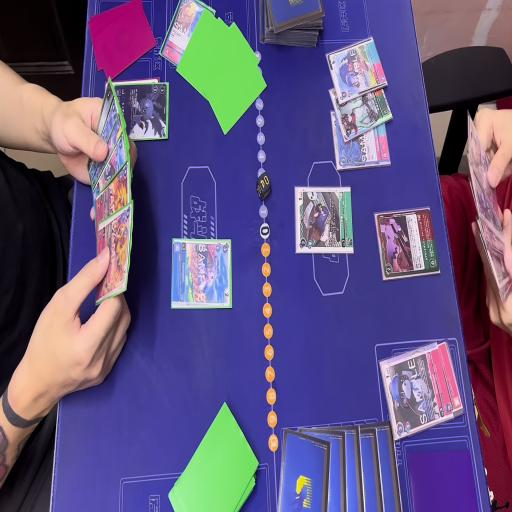card: (378, 340, 455, 440), (375, 208, 440, 282), (170, 238, 233, 313), (327, 33, 385, 101), (294, 186, 353, 250), (158, 0, 213, 67), (330, 81, 390, 141), (332, 110, 389, 172), (115, 84, 172, 141), (100, 206, 133, 296), (94, 159, 132, 236), (85, 78, 114, 174), (89, 116, 125, 190), (91, 136, 127, 207), (89, 94, 120, 176), (436, 339, 465, 421)
